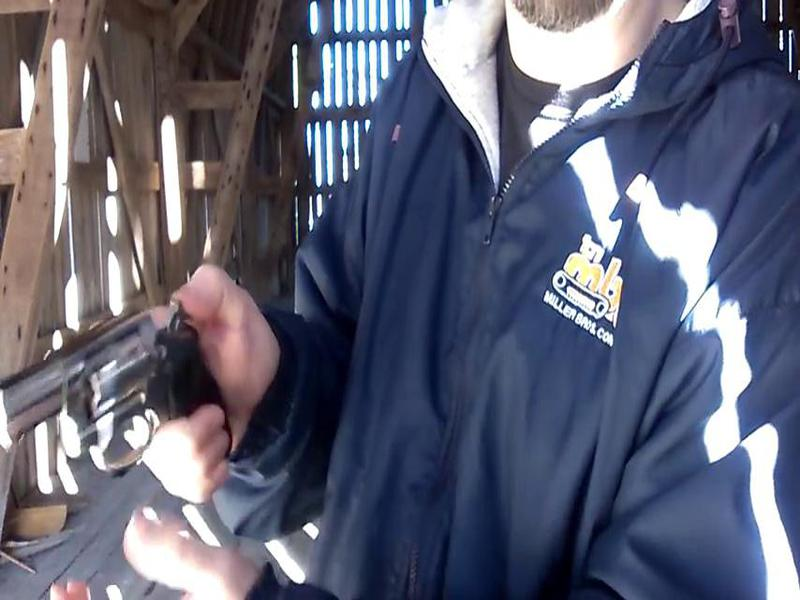Revolver: (17, 306, 232, 533)
